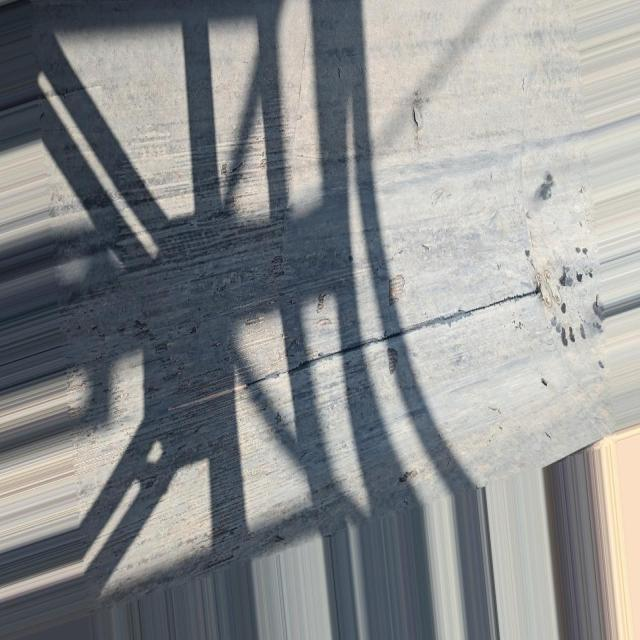Tear: (234, 287, 534, 403), (387, 267, 410, 313), (408, 100, 424, 136)
patch work: (530, 262, 566, 310)
